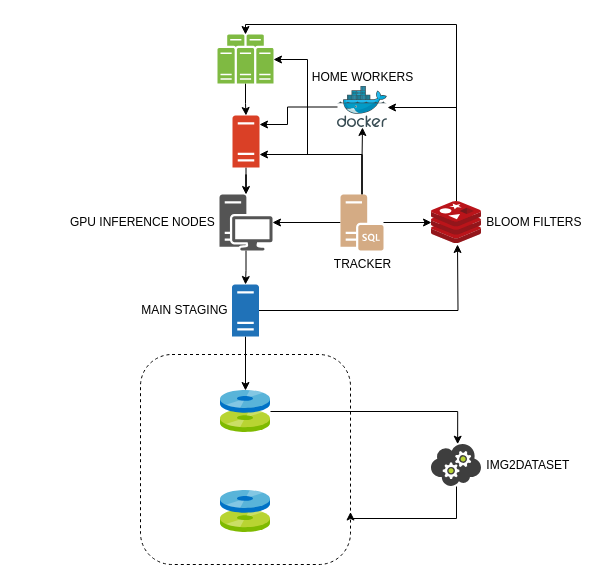
This 598x582 diagram has some shape labels left out. The shapes that lost their labels are listed below. From the top down, each one's box as (x1, y1, x2, y2) in pixels, then its label:
(217, 34, 273, 83): SINGLE CPU WORKERS SWARMS MULTICPU WORKER DC NODES VM OR BARE METAL
(232, 115, 259, 167): DL STAGING
(140, 354, 350, 564): STORAGE
